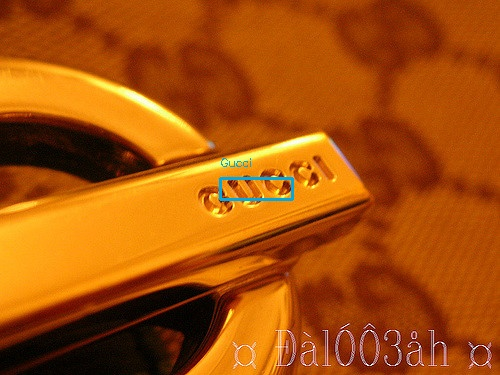Chanel: (191, 153, 344, 215)
